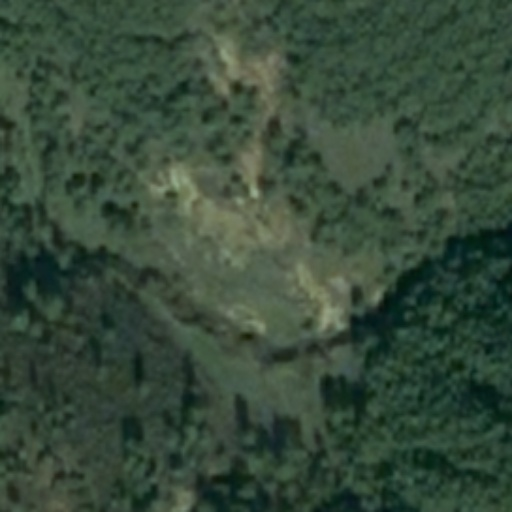landslide: (152, 31, 356, 338)
